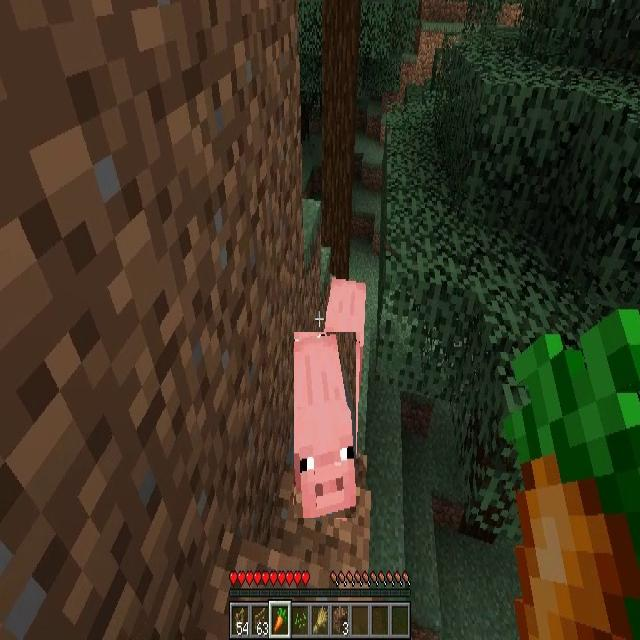pig: (294, 332, 356, 518), (323, 277, 367, 343)
